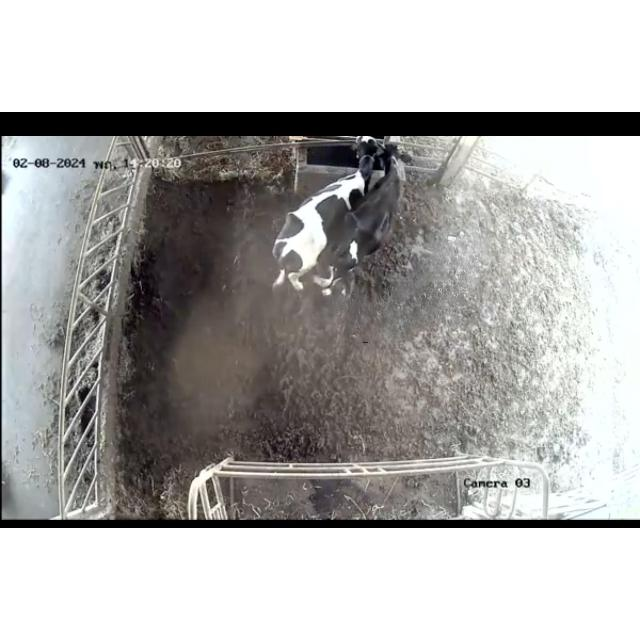drink: (337, 136, 383, 190), (382, 138, 414, 192)
